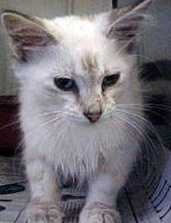Cat: (2, 0, 151, 207)
